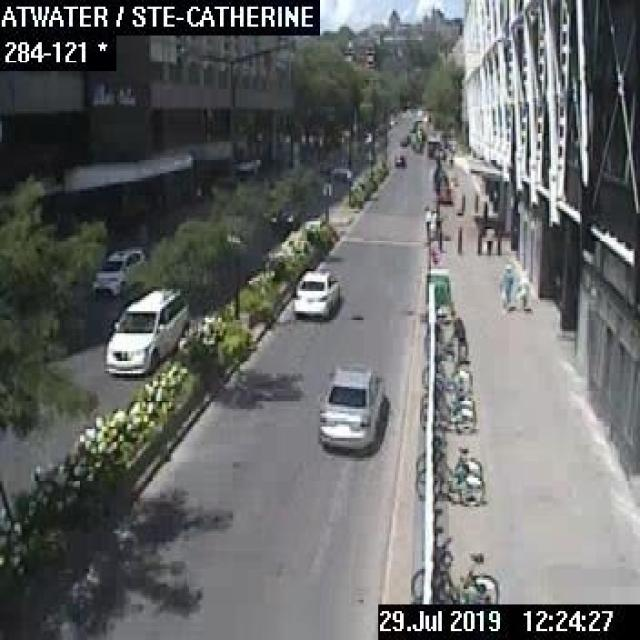pedestrian: (496, 258, 514, 308), (516, 268, 529, 311), (482, 218, 494, 255)
vehicle: (102, 286, 187, 374), (316, 363, 384, 451), (90, 247, 144, 296), (291, 266, 339, 318), (268, 202, 298, 230), (393, 153, 405, 169)
